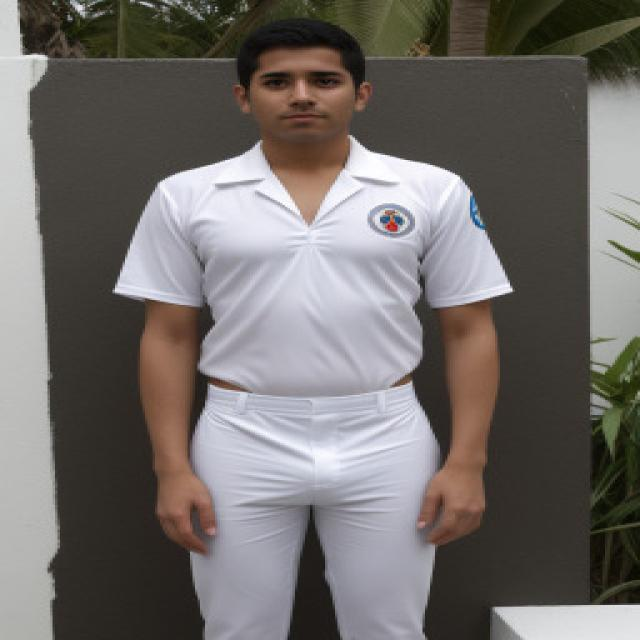Ai human 2: (112, 9, 512, 640)
